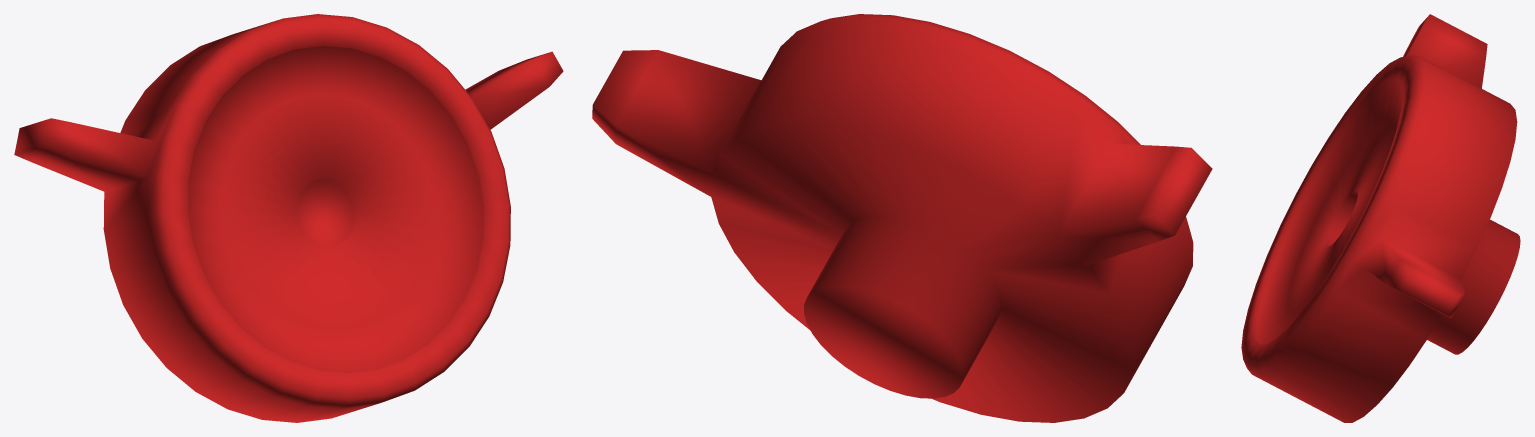
Rendered from volant.obj.
The picture shows the model from 3 angles, left to right: view 1: azimuth 30°, elevation 25°; view 2: azimuth 150°, elevation 25°; view 3: azimuth 270°, elevation 25°; orthographic projection. The views are drawn at different scales.
Parts seen in each view (by area): view 1: Cylindre.043; view 2: Cylindre.043; view 3: Cylindre.043.
Boxes of the visible parts, box(x1,y1,x2,y2) form: Cylindre.043: box(14, 14, 563, 422); Cylindre.043: box(592, 14, 1212, 422); Cylindre.043: box(1241, 14, 1520, 422).
Bounding box in the file's own units: 2.96 × 2.03 × 1.55.
